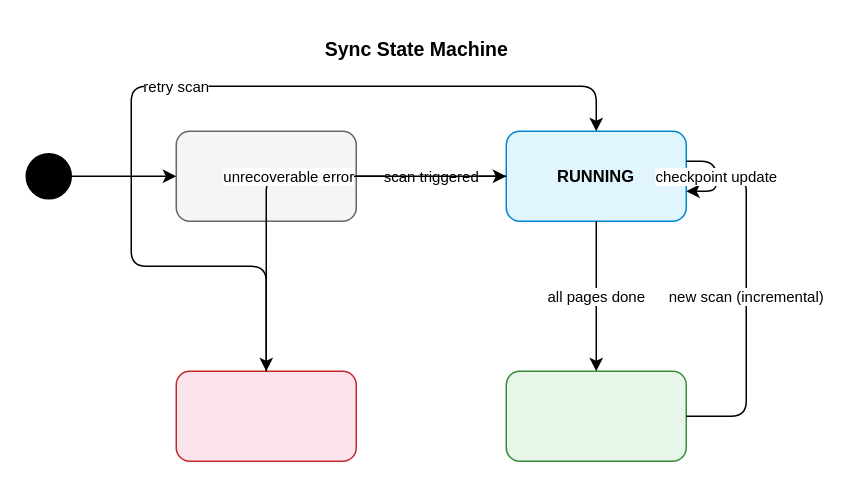
This 849x488 diagram has some shape labels left out. The shapes that lost their labels are listed below. From the top down, each one's centre as x and y in pixels, then its label:
At [265,415]: "FAILED".
At [595,415]: "COMPLETED".
